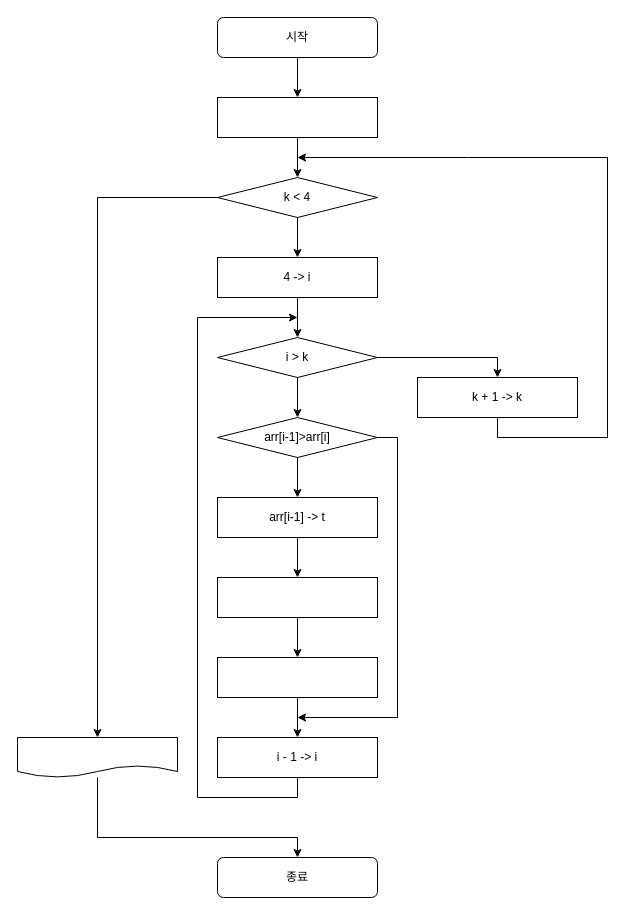
This 633x915 diagram has some shape labels left out. The centre of each missing label's shape, as x and y in pixels:
0 -> k: (297,117)
arr[i] -> arr[i-1]: (297,597)
t -> arr[i]: (297,677)
정렬된 결과를 출력: (97,757)
